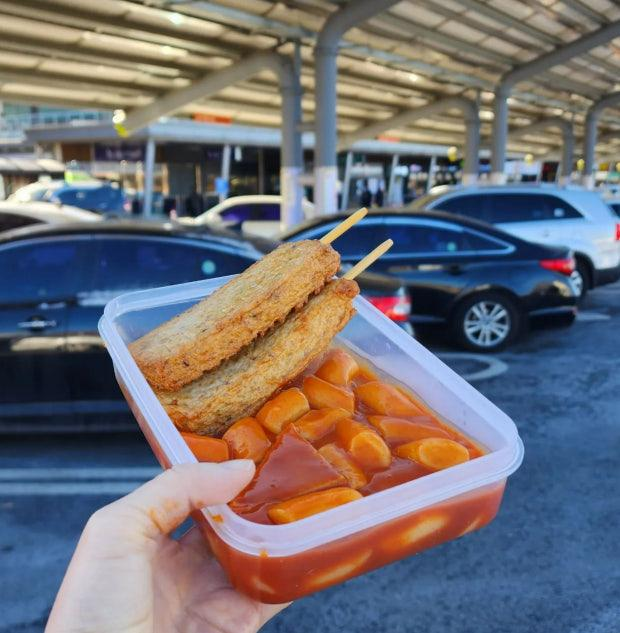Lunch Box: (100, 240, 523, 602)
